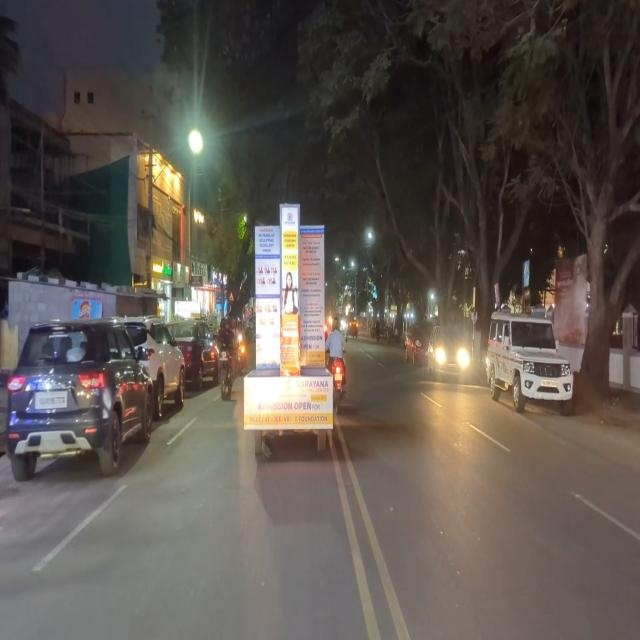bien_nguy_hiem: (228, 290, 235, 302)
